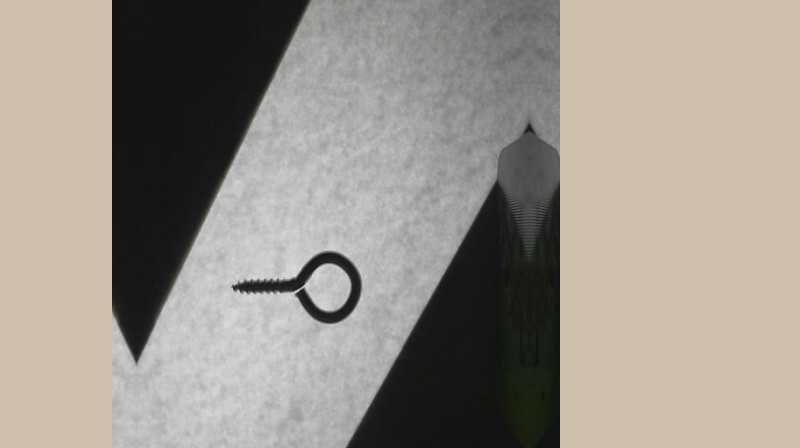O001: (228, 243, 365, 326)
